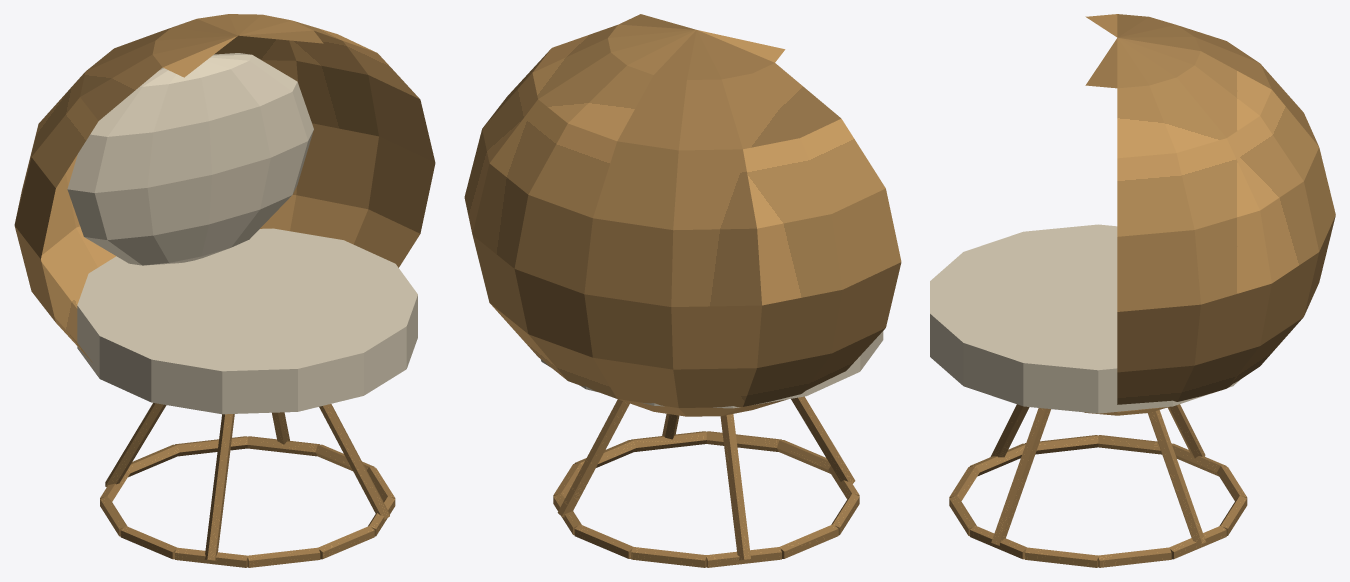
Rendered from chair_rattan.glb.
3 renders of one model, left to right at view 1: azimuth 30°, elevation 25°; view 2: azimuth 150°, elevation 25°; view 3: azimuth 270°, elevation 25°, orthographic. The views are drawn at different scales.
Visible parts, largest first — view 1: Chair_rattan; view 2: Chair_rattan; view 3: Chair_rattan.
Part boxes in pixels (box(x1,y1,x2,y2)): Chair_rattan: box(14, 14, 435, 567); Chair_rattan: box(464, 14, 901, 567); Chair_rattan: box(930, 14, 1335, 567).
Size of the model in its own units: 0.96 by 1.08 by 0.847.
Materials: 2 (1 with a texture image).
